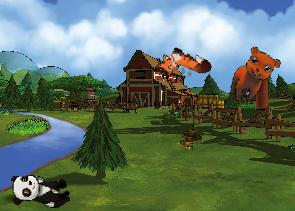bear: (226, 43, 283, 111)
fox: (152, 40, 213, 93)
panda: (10, 173, 71, 208)
